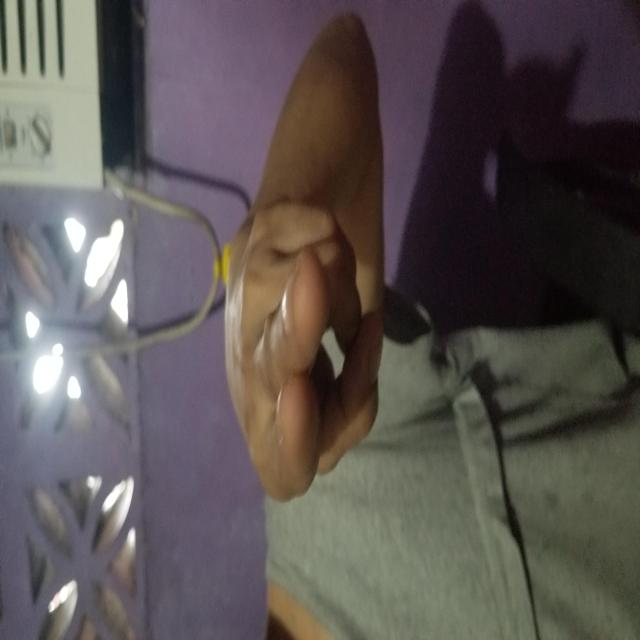N: (136, 221, 442, 383)
